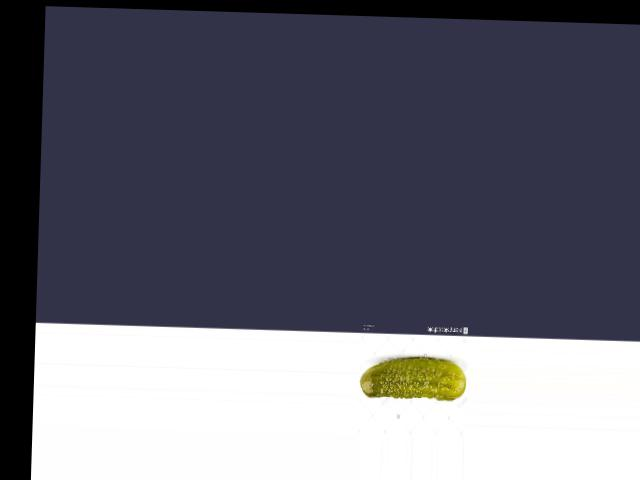cucumber: (358, 354, 466, 401)
